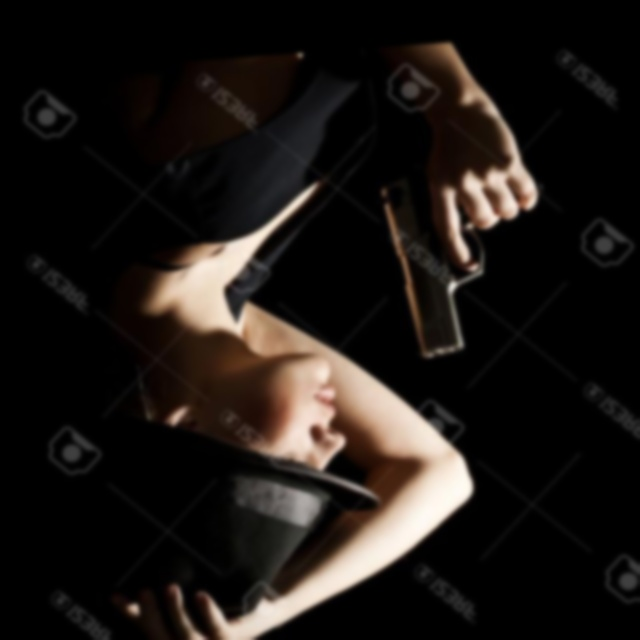gun: (369, 103, 566, 376)
